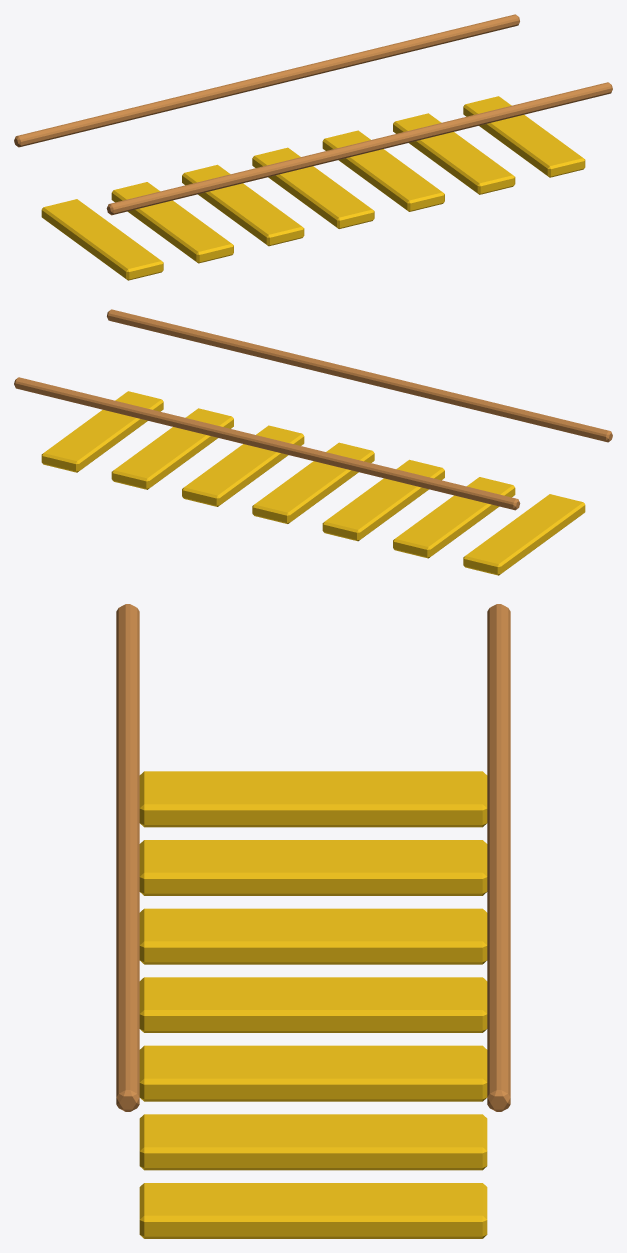
File: rope_bridge.glb
3 renders of one model, top to bottom at view 1: azimuth 30°, elevation 25°; view 2: azimuth 150°, elevation 25°; view 3: azimuth 270°, elevation 25°, orthographic. The views are drawn at different scales.
Visible parts, largest first — view 1: rope_bridge; view 2: rope_bridge; view 3: rope_bridge.
Part boxes in pixels (x1,y1,x2,y2): rope_bridge: (14, 14, 612, 280); rope_bridge: (14, 309, 612, 575); rope_bridge: (116, 604, 510, 1238).
Bounding box in the file's own units: 1 × 0.1614 × 0.34.
